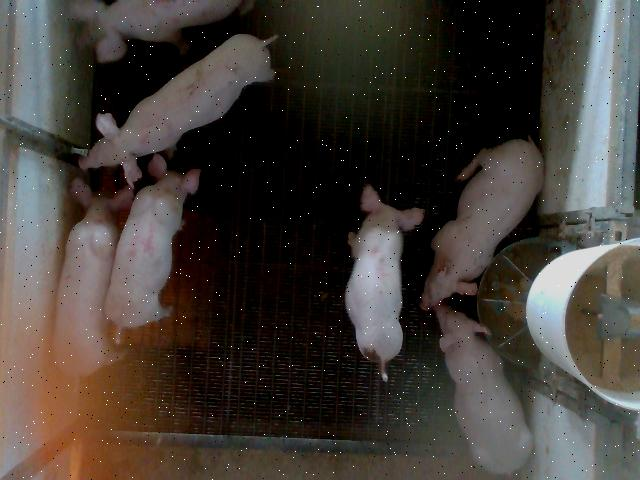pig-4: (105, 154, 200, 343)
pig-5: (345, 185, 424, 381)
